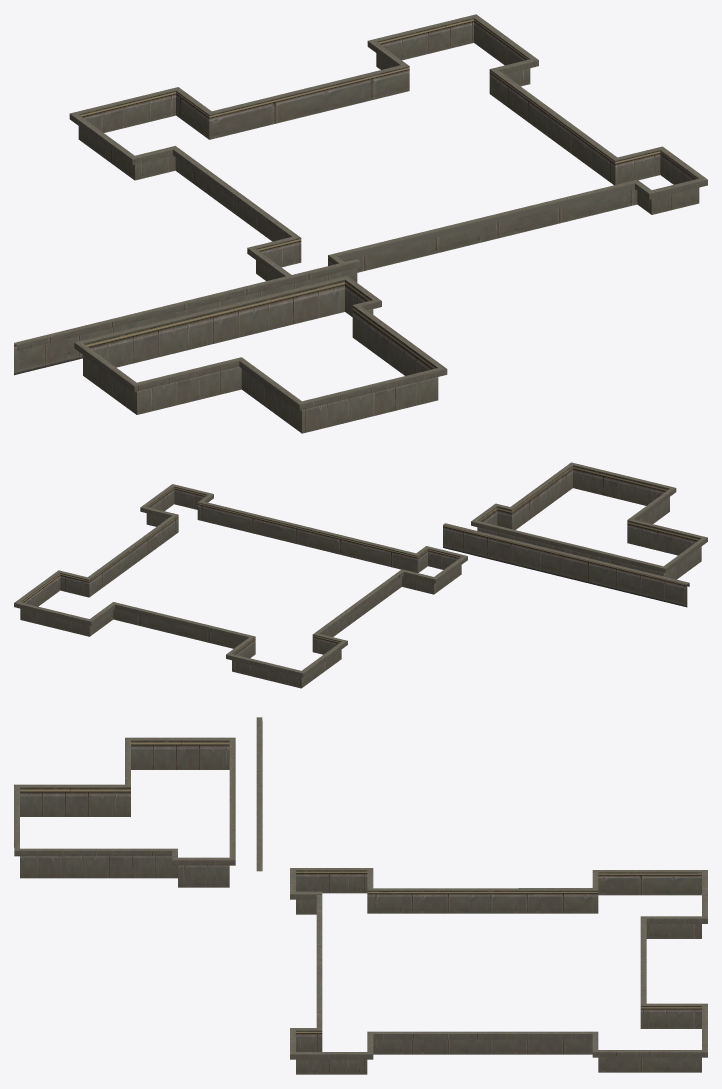
Rendered from s7_new_3d_chengchi_jianzhu002.FBX.
The picture shows the model from 3 angles, top to bottom: view 1: azimuth 30°, elevation 25°; view 2: azimuth 150°, elevation 25°; view 3: azimuth 270°, elevation 25°; orthographic projection. The views are drawn at different scales.
Visible parts, largest first — view 1: s7_new_3d_chengchi_cb001, s7_new_3d_chengchi_cb002, s7_new_3d_chengchi_cb003; view 2: s7_new_3d_chengchi_cb001, s7_new_3d_chengchi_cb002, s7_new_3d_chengchi_cb003; view 3: s7_new_3d_chengchi_cb001, s7_new_3d_chengchi_cb002, s7_new_3d_chengchi_cb003.
Part boxes in pixels (left/top/right/bottom): s7_new_3d_chengchi_cb001: left=69, top=14, right=707, bottom=280; s7_new_3d_chengchi_cb002: left=74, top=275, right=447, bottom=433; s7_new_3d_chengchi_cb003: left=14, top=259, right=360, bottom=375; s7_new_3d_chengchi_cb001: left=14, top=484, right=467, bottom=688; s7_new_3d_chengchi_cb002: left=471, top=462, right=707, bottom=579; s7_new_3d_chengchi_cb003: left=443, top=523, right=689, bottom=607; s7_new_3d_chengchi_cb001: left=290, top=868, right=707, bottom=1074; s7_new_3d_chengchi_cb002: left=14, top=737, right=235, bottom=887; s7_new_3d_chengchi_cb003: left=256, top=717, right=262, bottom=871.
Size of the model in its own units: 71.93 by 4.42 by 66.31.
